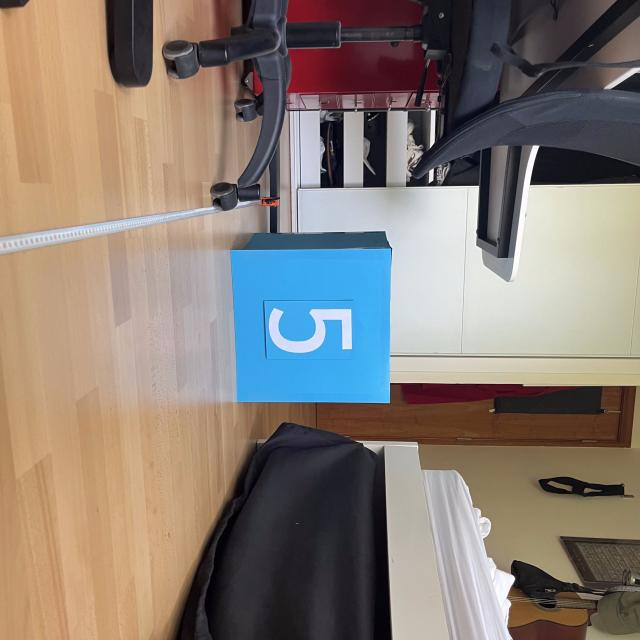box: (226, 228, 395, 406)
